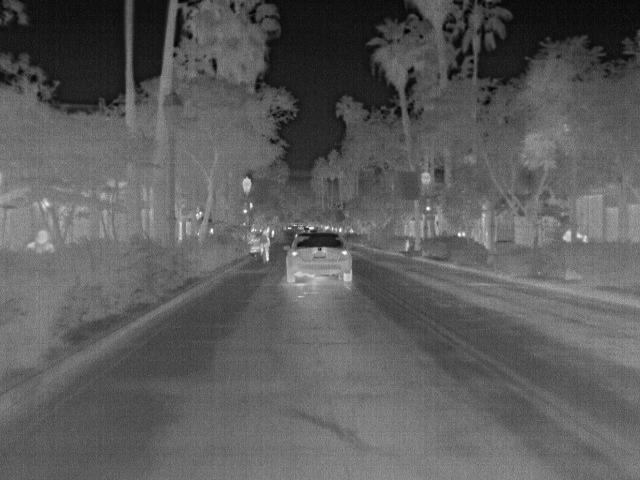car: (282, 229, 358, 283)
person: (25, 228, 55, 252), (257, 232, 273, 261)
